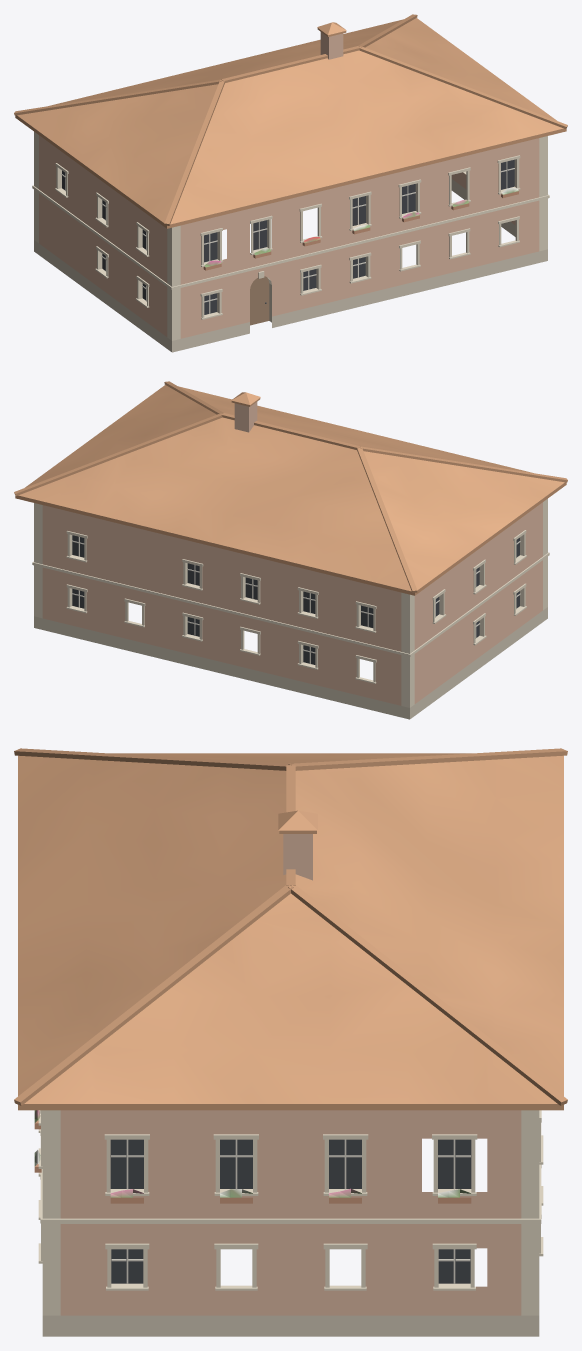
File: SM_BM_BE_4_Villa.glb
The picture shows the model from 3 angles, top to bottom: view 1: azimuth 30°, elevation 25°; view 2: azimuth 150°, elevation 25°; view 3: azimuth 270°, elevation 25°; orthographic projection. The views are drawn at different scales.
Visible parts, largest first — view 1: SM_BM_BE_4_Villa; view 2: SM_BM_BE_4_Villa; view 3: SM_BM_BE_4_Villa.
Part boxes in pixels (box(x1,y1,x2,y2)): SM_BM_BE_4_Villa: box(14, 14, 567, 352); SM_BM_BE_4_Villa: box(14, 381, 567, 719); SM_BM_BE_4_Villa: box(14, 748, 567, 1336).
Size of the model in its own units: 23.62 by 12.41 by 15.62.
